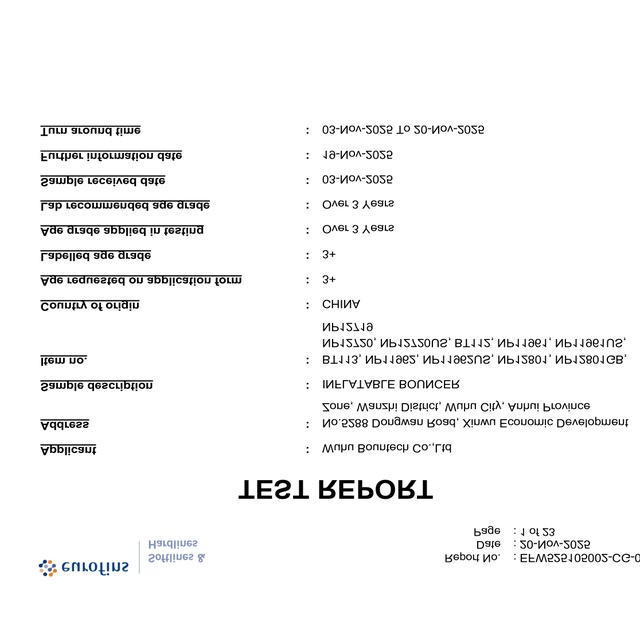eurofins: (34, 559, 134, 584)
